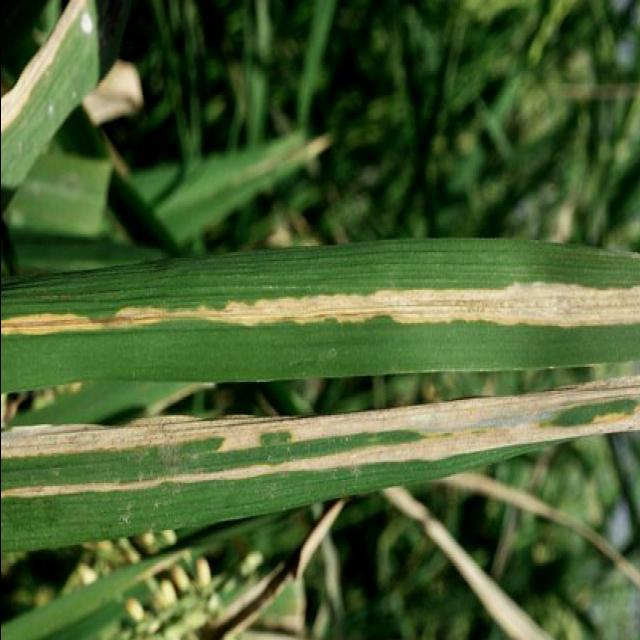Bacterial_Leaf_Blight: (3, 380, 640, 522), (2, 274, 640, 358)
